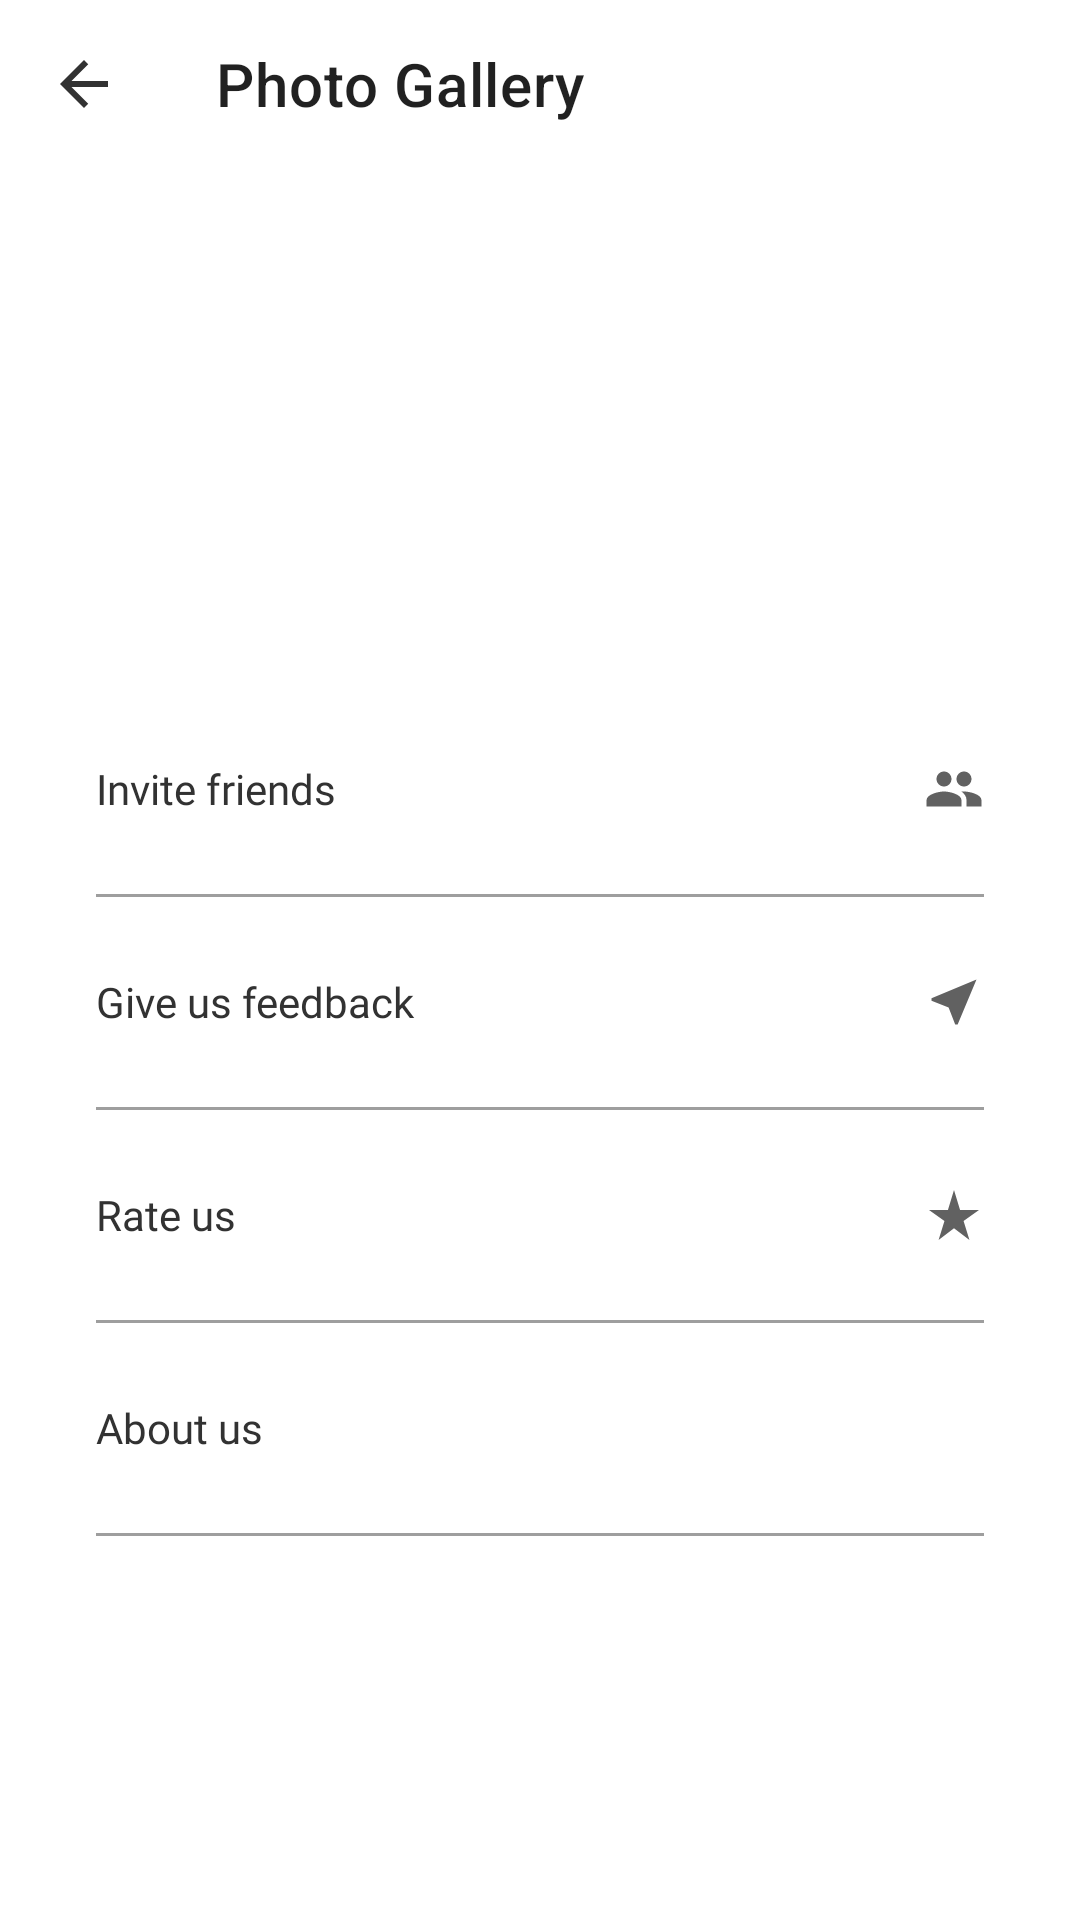

Screen size 1080w x 1920h. Icon name, then its box in pixels as [left=x1, top=y1, right=x2, bottom=y2]:
star: [left=929, top=1191, right=979, bottom=1240]
